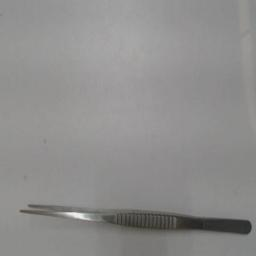DeBakey Dissector: (14, 199, 254, 243)
